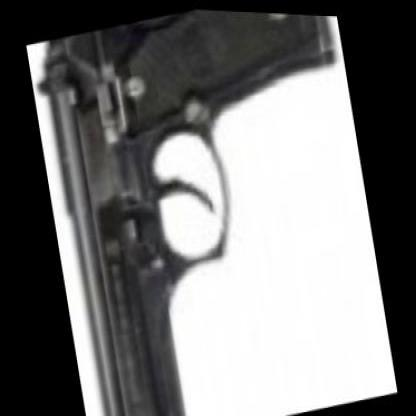pistol: (25, 0, 380, 415)
